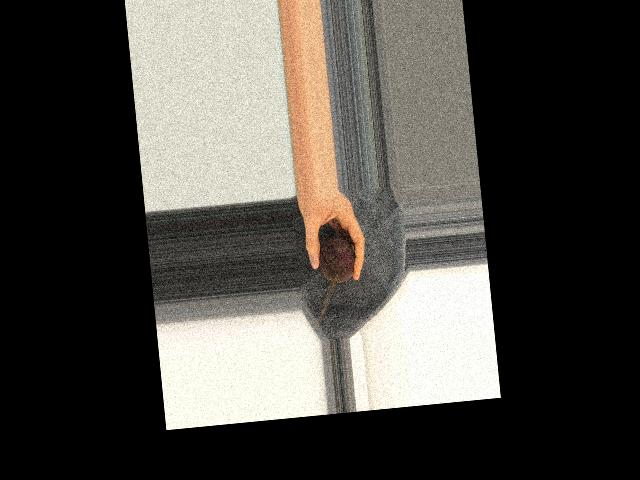beet: (316, 235, 356, 284)
